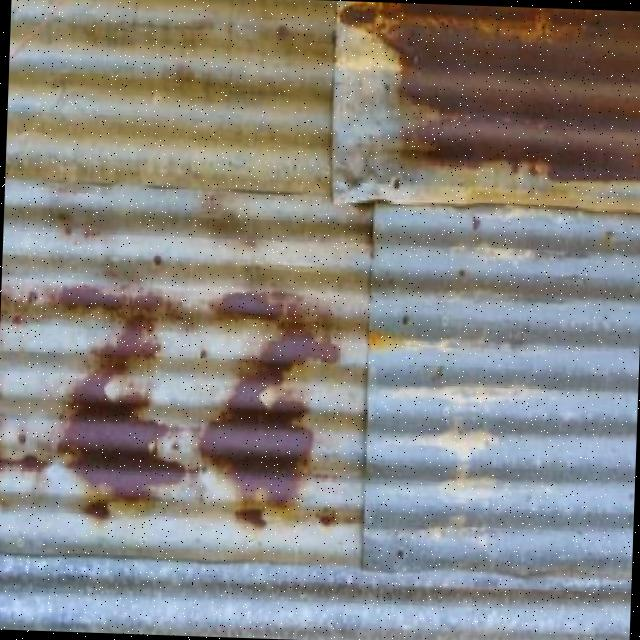Corrosion: (0, 0, 640, 640), (0, 273, 343, 529), (333, 0, 640, 185)
